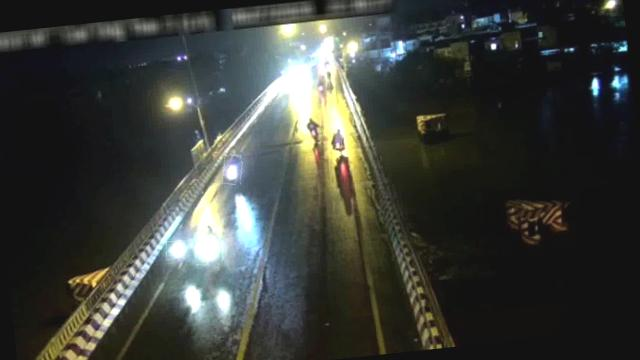Bike: (192, 226, 225, 266), (221, 154, 244, 186), (306, 115, 324, 144), (166, 240, 191, 260), (330, 127, 344, 151)
